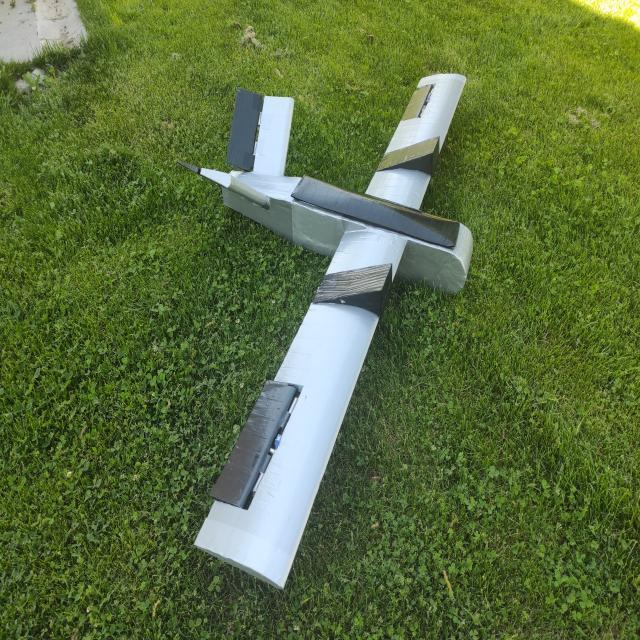iha: (170, 69, 477, 597)
